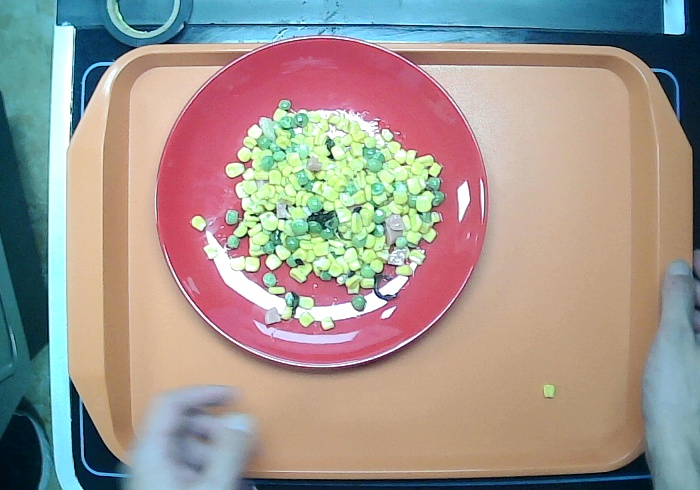HZYJPL-Hong_Se_Yuan_Pan: (143, 29, 497, 375)
